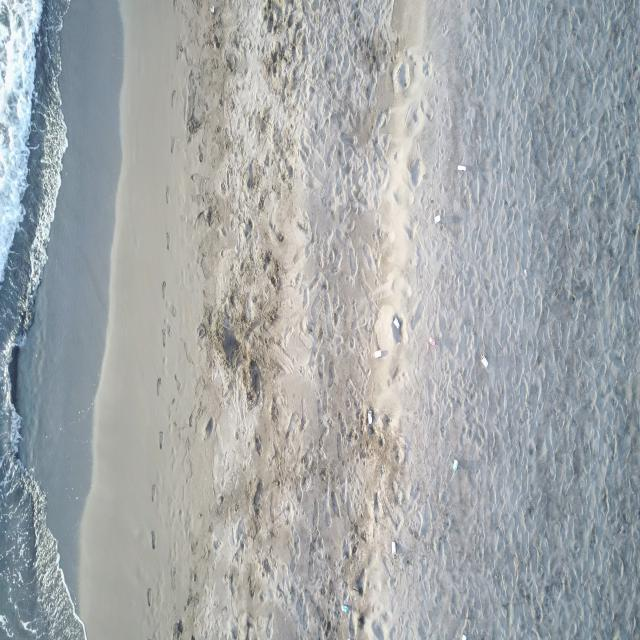tin-and-aluminum-cans: (428, 334, 436, 348), (481, 355, 489, 368), (374, 349, 383, 360), (393, 316, 400, 329), (368, 409, 373, 425), (391, 540, 396, 556), (457, 165, 468, 172), (452, 459, 458, 471), (434, 215, 441, 225), (458, 633, 468, 640), (341, 604, 348, 613)
